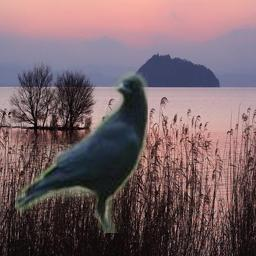Crow: (15, 71, 148, 233)
